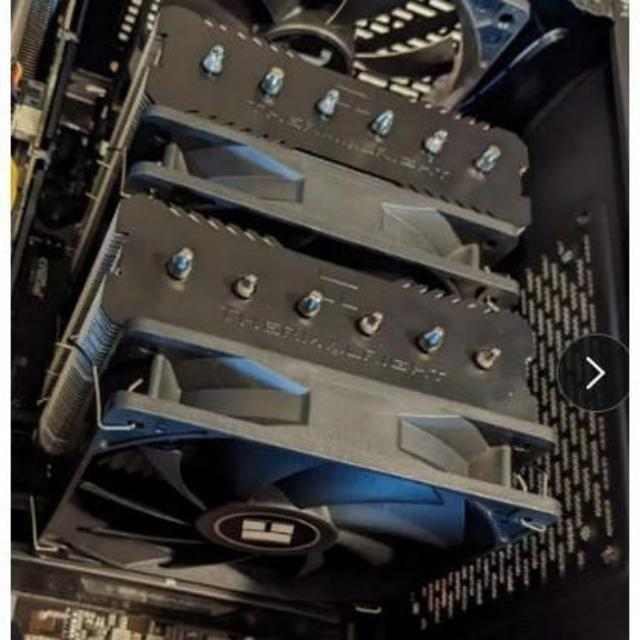CPU_Fan: (43, 0, 552, 602)
